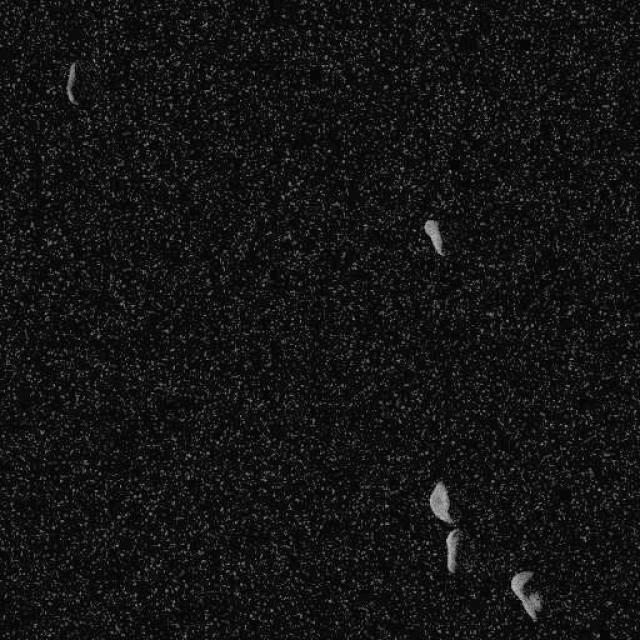D2: (508, 569, 544, 621), (428, 478, 453, 524), (421, 218, 445, 256), (444, 528, 461, 574), (64, 60, 78, 106)
